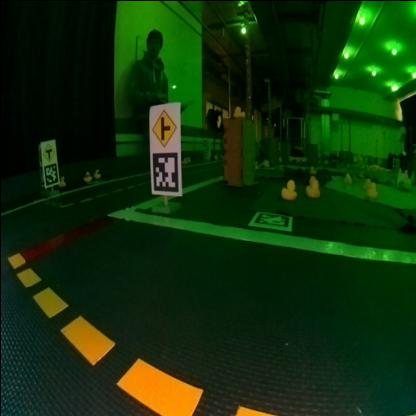Duckie: (280, 178, 294, 200), (304, 177, 317, 196), (366, 179, 376, 195), (83, 170, 89, 180), (93, 168, 99, 177), (342, 172, 348, 180), (60, 174, 64, 182)
Intersection sign: (150, 108, 176, 148), (41, 141, 53, 161)
QR code: (150, 154, 176, 190), (249, 209, 292, 230), (43, 164, 56, 184)
